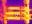Hotspot: (24, 0, 30, 23), (6, 17, 21, 20), (6, 12, 20, 15), (8, 7, 20, 10)
